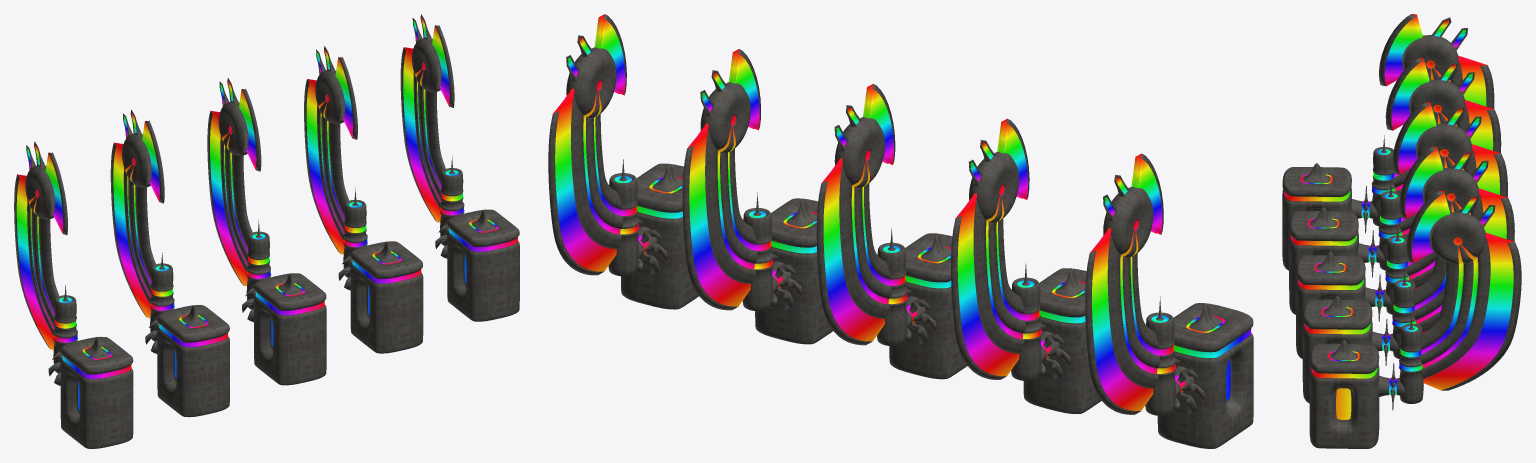
The model's file is xenosands-SolarFins.glb.
3 renders of one model, left to right at view 1: azimuth 30°, elevation 25°; view 2: azimuth 150°, elevation 25°; view 3: azimuth 270°, elevation 25°, orthographic. The views are drawn at different scales.
Visible parts, largest first — view 1: Base; view 2: Base; view 3: Base.
Boxes of the visible parts, x1,y1,x2,y2 form: Base: (14,14,519,448); Base: (548,14,1253,448); Base: (1282,14,1521,448).
Size of the model in its own units: 8.61 by 4.87 by 3.93.
2 materials, 2 textured.
